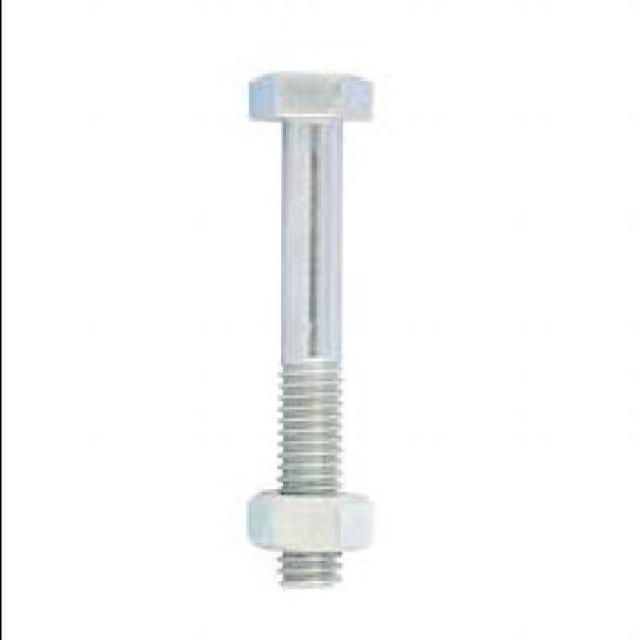METAL: (251, 65, 378, 586), (250, 489, 376, 549)
